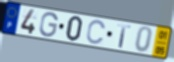0: (132, 26, 154, 55), (65, 16, 84, 43)
4: (19, 8, 36, 35)
C: (85, 20, 107, 46)
G: (38, 11, 59, 39)
T: (116, 23, 132, 50)
